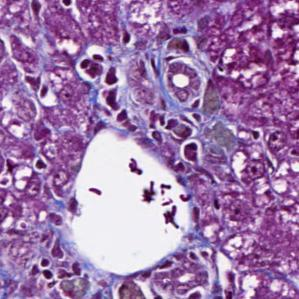inflammation: (68, 42, 119, 88)
